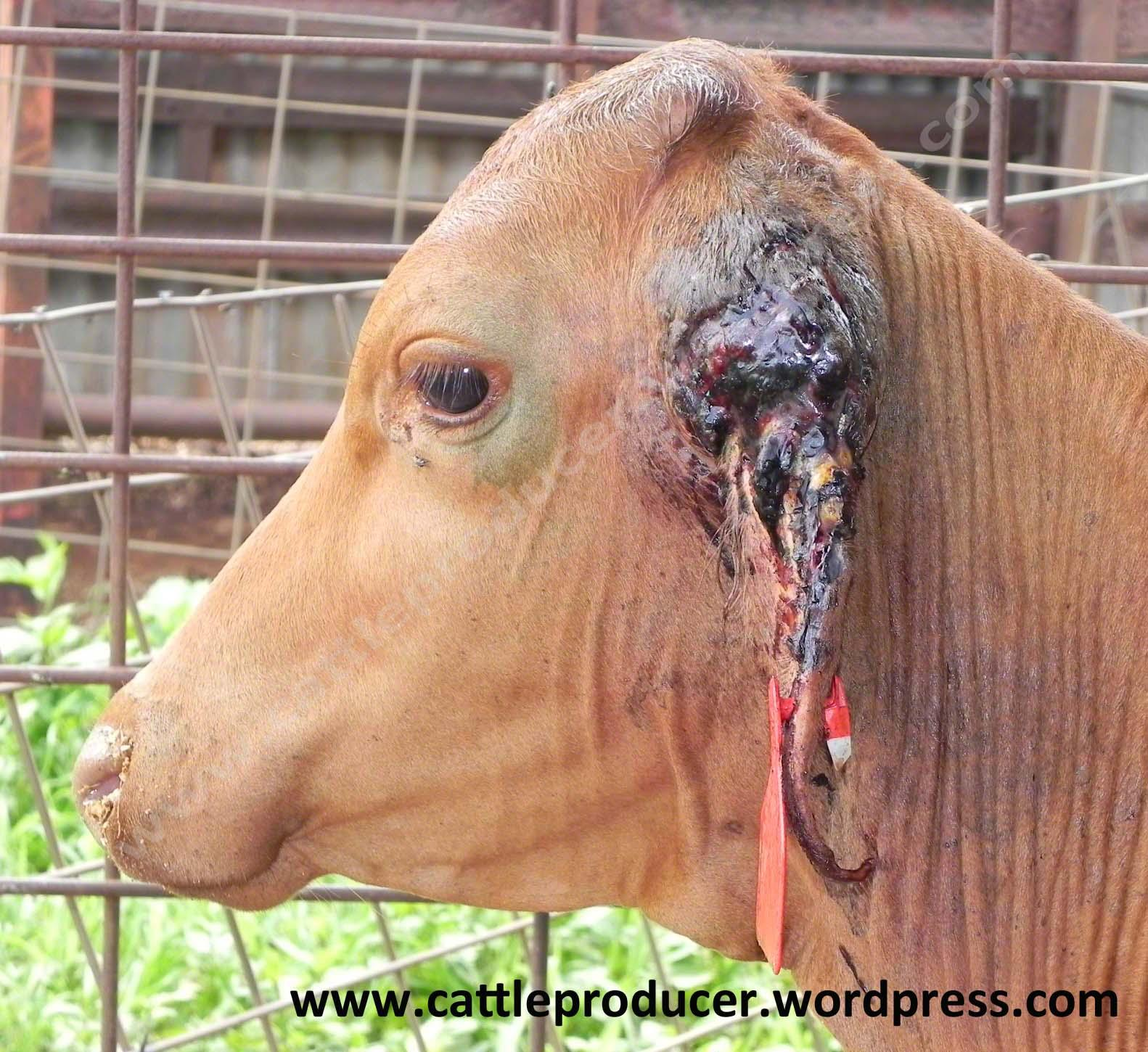bleeding: (617, 234, 910, 628)
